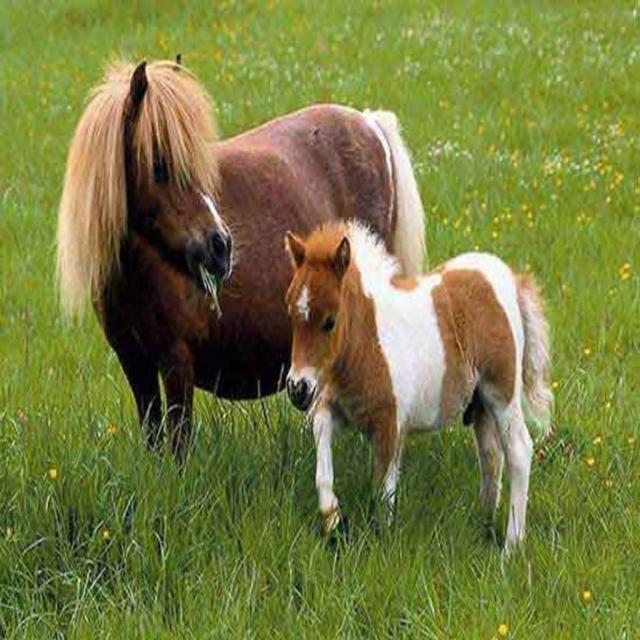Horse: (47, 53, 429, 476), (283, 215, 559, 598)
